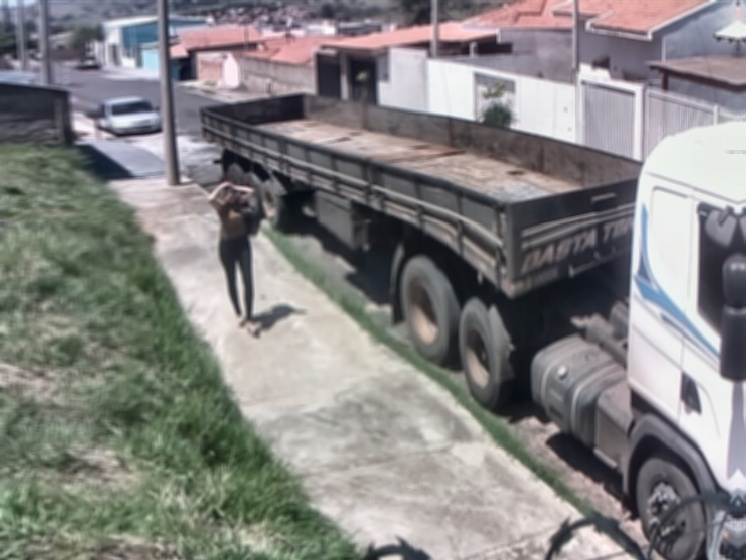person: (207, 176, 268, 339)
